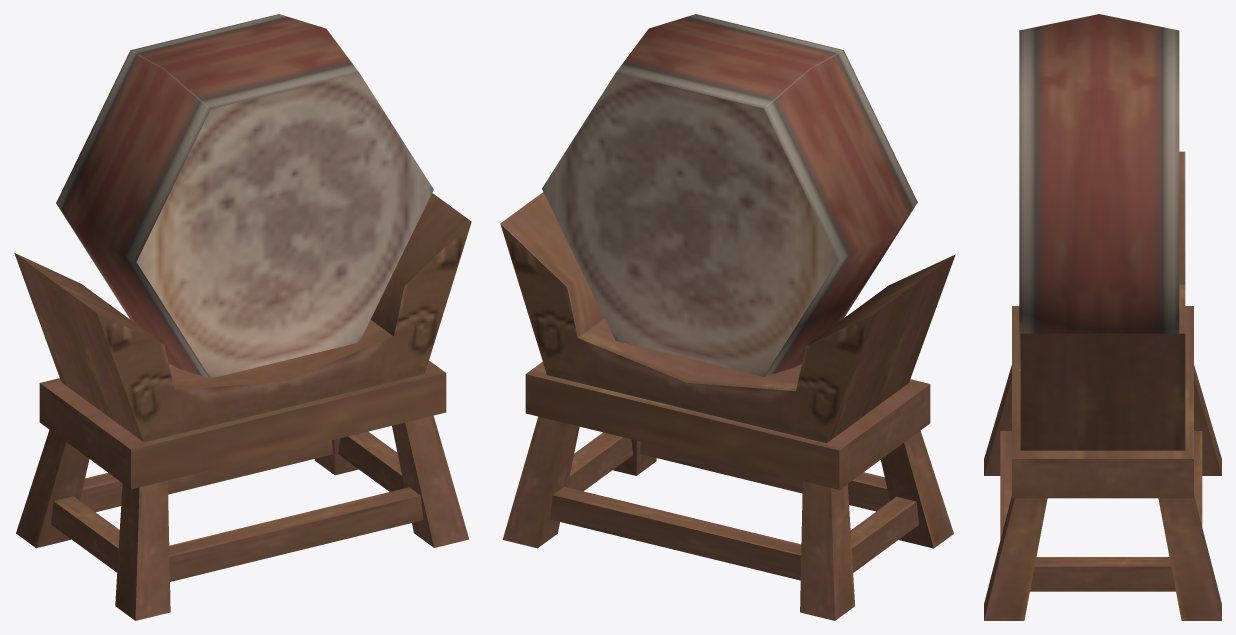
Rendered from zhangu01_L.fbx.
3 views of the same model, side by side, from view 1: azimuth 30°, elevation 25°; view 2: azimuth 150°, elevation 25°; view 3: azimuth 270°, elevation 25° (orthographic).
Parts seen in each view (by area): view 1: zhangu01_L; view 2: zhangu01_L; view 3: zhangu01_L.
Boxes of the visible parts, x1,y1,x2,y2 form: zhangu01_L: (14,14,471,620); zhangu01_L: (500,14,955,620); zhangu01_L: (984,14,1221,620).
Bounding box in the file's own units: 1.06 × 1.32 × 0.5844.
